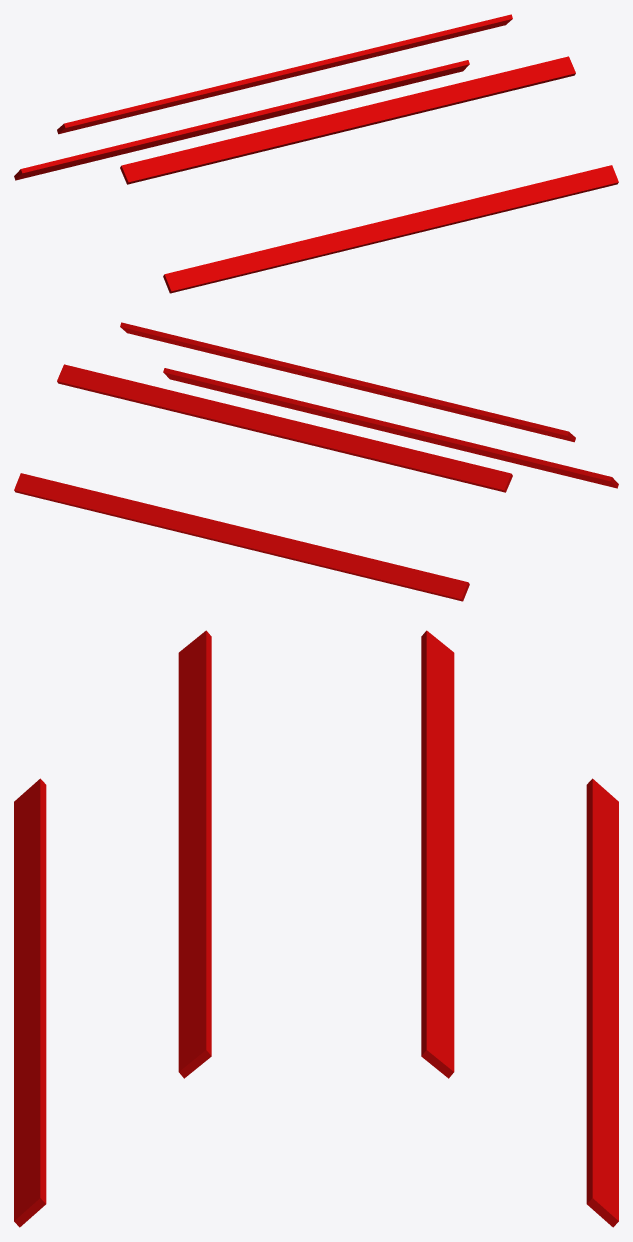
File: Attic_WoodenFrame_01_LP.glb
3 views of the same model, one above another, from view 1: azimuth 30°, elevation 25°; view 2: azimuth 150°, elevation 25°; view 3: azimuth 270°, elevation 25° (orthographic). The views are drawn at different scales.
Visible parts, largest first — view 1: Attic_WoodenFrame_01_LP; view 2: Attic_WoodenFrame_01_LP; view 3: Attic_WoodenFrame_01_LP.
Part boxes in pixels (bbox=[...]): Attic_WoodenFrame_01_LP: bbox=[14, 14, 618, 293]; Attic_WoodenFrame_01_LP: bbox=[14, 322, 618, 601]; Attic_WoodenFrame_01_LP: bbox=[14, 630, 618, 1227].
Size of the model in its own units: 11.11 by 2.2 by 6.77.
